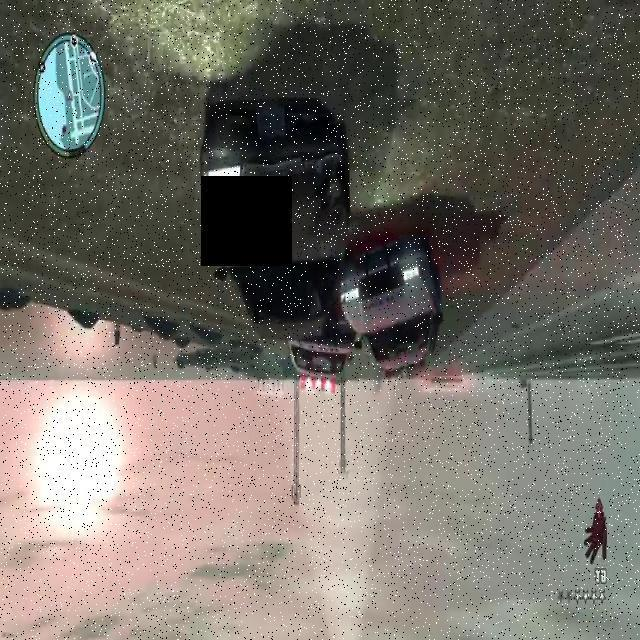vehicle: (198, 70, 364, 361), (216, 255, 464, 406)
